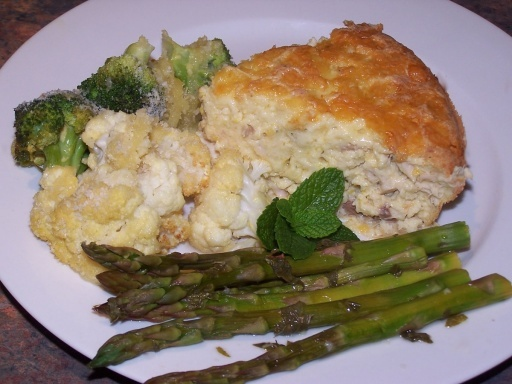background: (9, 11, 409, 230)
